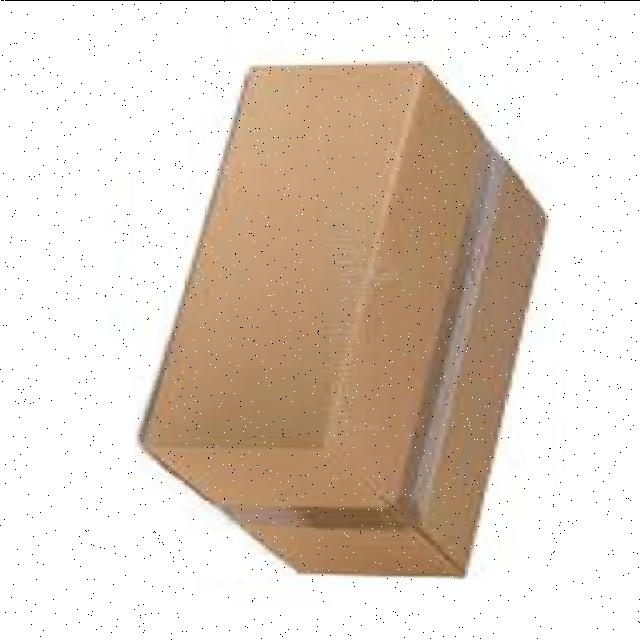normal: (134, 59, 552, 578)
